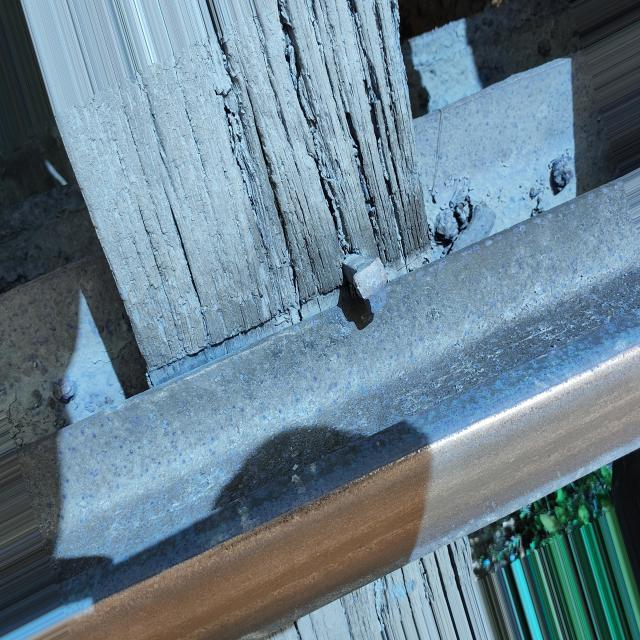Good Fasteners: (343, 257, 387, 299)
